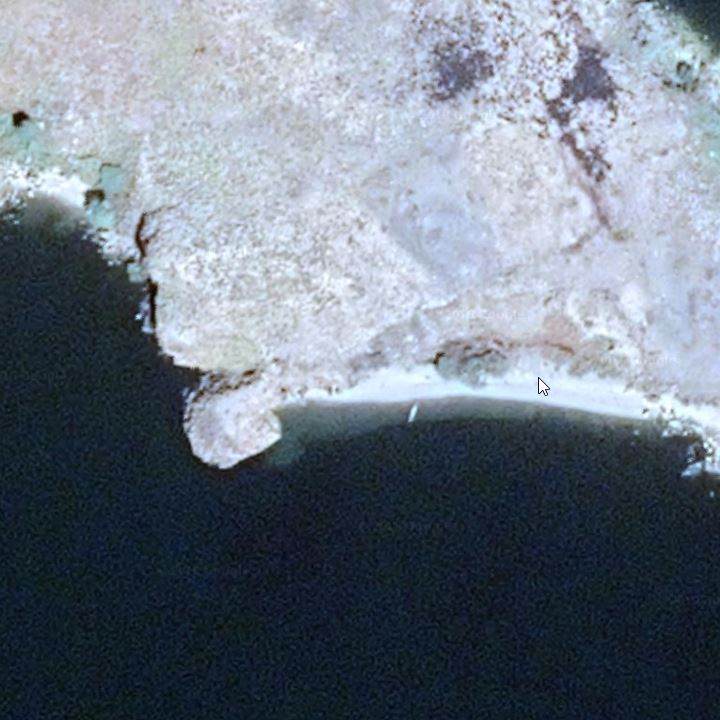boat: (400, 394, 423, 430)
